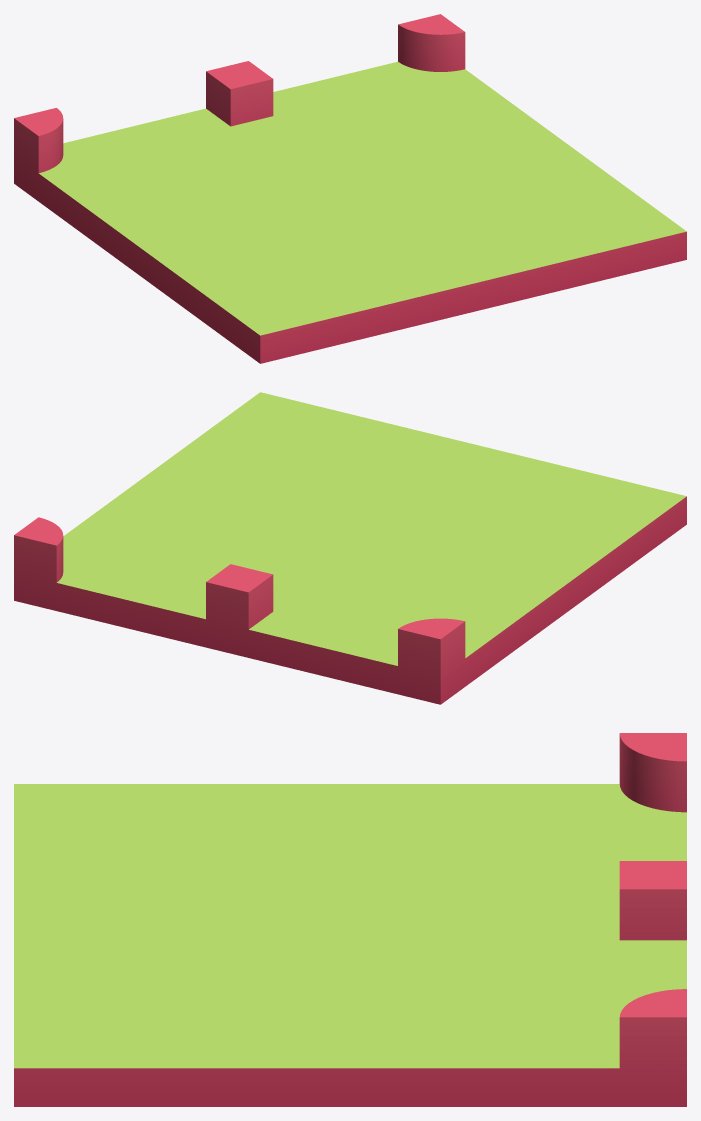
File: split-walls-to-open.fbx
3 views of the same model, one above another, from view 1: azimuth 30°, elevation 25°; view 2: azimuth 150°, elevation 25°; view 3: azimuth 270°, elevation 25° (orthographic). The views are drawn at different scales.
Parts seen in each view (by area): view 1: split_walls_to_open; view 2: split_walls_to_open; view 3: split_walls_to_open.
Part boxes in pixels (x1=…): split_walls_to_open: x1=14, y1=14, x2=686, y2=363; split_walls_to_open: x1=14, y1=392, x2=686, y2=704; split_walls_to_open: x1=14, y1=733, x2=686, y2=1106.
Size of the model in its own units: 99.99 by 14.67 by 99.99.
